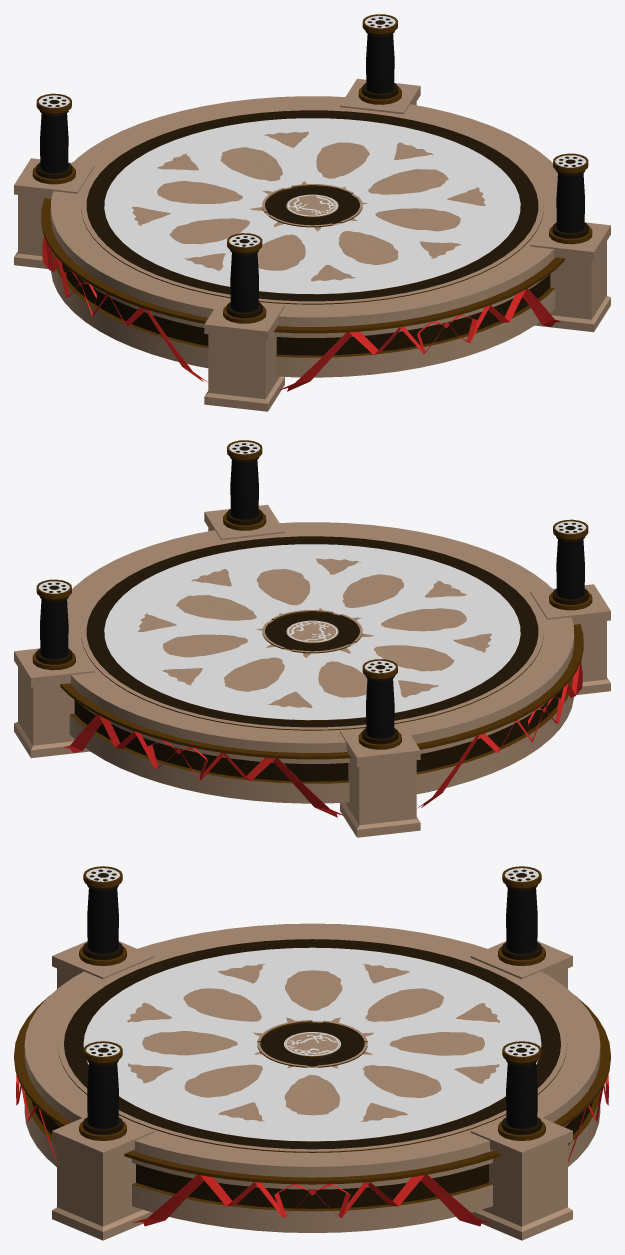
The model's file is PressetLevel.1.fbx.
3 views of the same model, one above another, from view 1: azimuth 30°, elevation 25°; view 2: azimuth 150°, elevation 25°; view 3: azimuth 270°, elevation 25° (orthographic). The views are drawn at different scales.
Visible parts, largest first — view 1: Cube.030, Cylinder.001, Cube.031, Cube.033; view 2: Cube.030, Cylinder.001, Cube.031, Cube.033; view 3: Cube.030, Cylinder.001, Cube.033, Cube.031.
Part boxes in pixels (<box>): Cube.030: <box>50,96,557,377</box>; Cylinder.001: <box>14,14,610,411</box>; Cube.031: <box>72,162,564,391</box>; Cube.033: <box>41,198,208,382</box>; Cube.030: <box>67,522,574,803</box>; Cylinder.001: <box>14,440,610,837</box>; Cube.031: <box>60,588,552,817</box>; Cube.033: <box>416,624,583,808</box>; Cube.030: <box>24,923,600,1232</box>; Cylinder.001: <box>52,866,572,1240</box>; Cube.033: <box>124,1150,500,1226</box>; Cube.031: <box>14,995,610,1162</box>.
Bounding box in the file's own units: 2484 × 779 × 2484.
